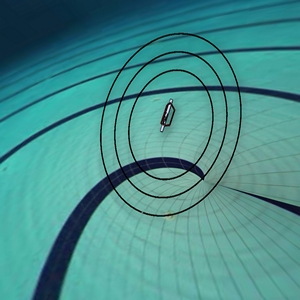circle: (82, 24, 259, 246)
submarine: (152, 91, 181, 134)
